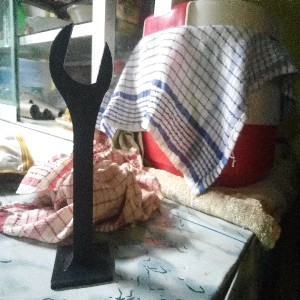spanner: (48, 24, 114, 291)
